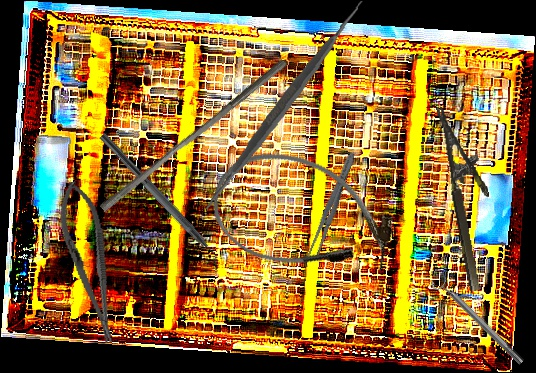Cannula: (198, 135, 408, 296)
Chopper: (90, 132, 231, 277)
Dressing Forceps: (305, 151, 359, 261)
Fixation Ring: (429, 271, 528, 370)
Needle Holder: (50, 177, 129, 348), (436, 101, 505, 292)
Pusher: (98, 51, 288, 219)
Spatula Surgical: (178, 0, 391, 210)
